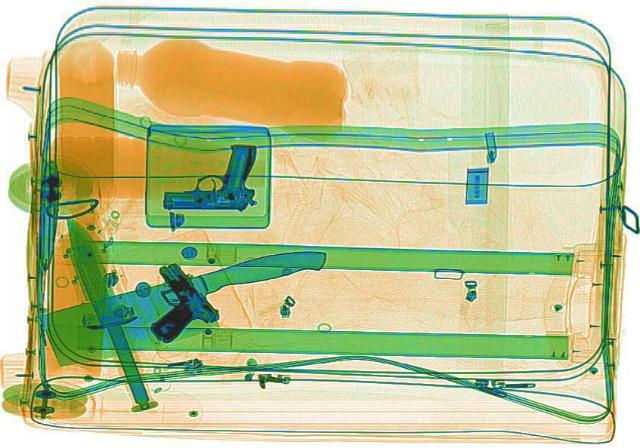Gun: (112, 257, 228, 342), (160, 141, 258, 210)
Knife: (26, 240, 352, 367), (55, 216, 159, 405), (25, 174, 61, 378)
